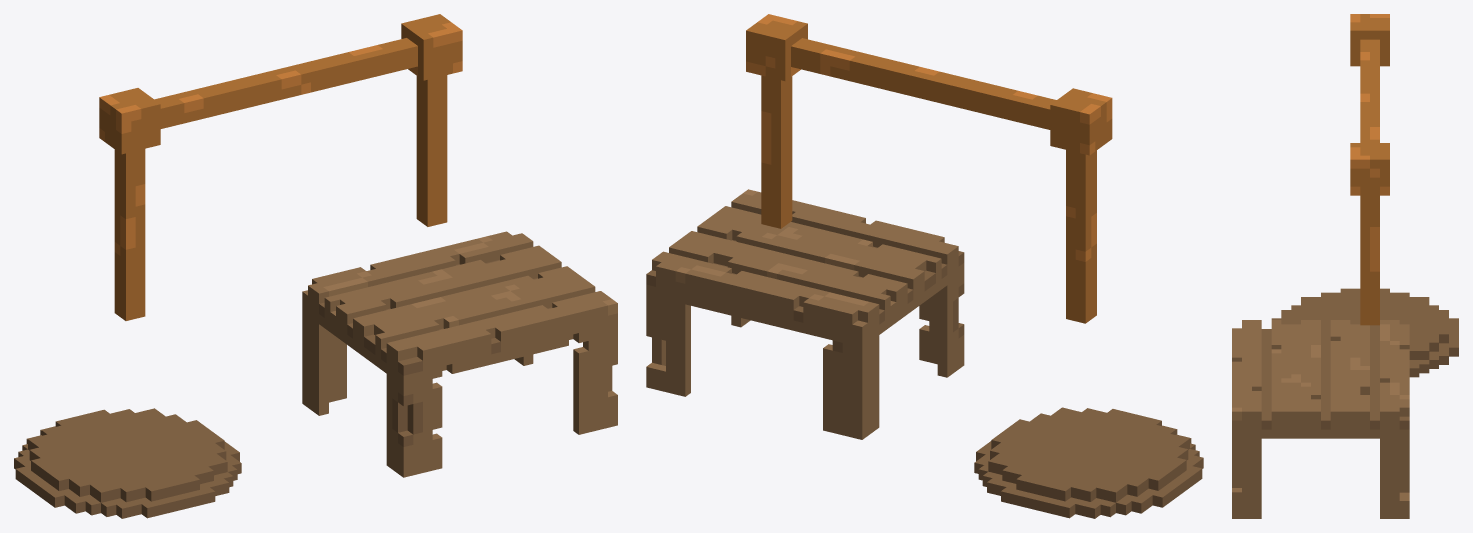
Rendered from Beermachine.fbx.
3 renders of one model, left to right at view 1: azimuth 30°, elevation 25°; view 2: azimuth 150°, elevation 25°; view 3: azimuth 270°, elevation 25°, orthographic. The views are drawn at different scales.
Parts seen in each view (by area): view 1: Cube.159; view 2: Cube.159; view 3: Cube.159.
Boxes of the visible parts, left/top/right/bottom form: Cube.159: left=14, top=14, right=617, bottom=518; Cube.159: left=646, top=14, right=1203, bottom=518; Cube.159: left=1232, top=14, right=1458, bottom=518.
Size of the model in its own units: 260 by 180 by 115.
